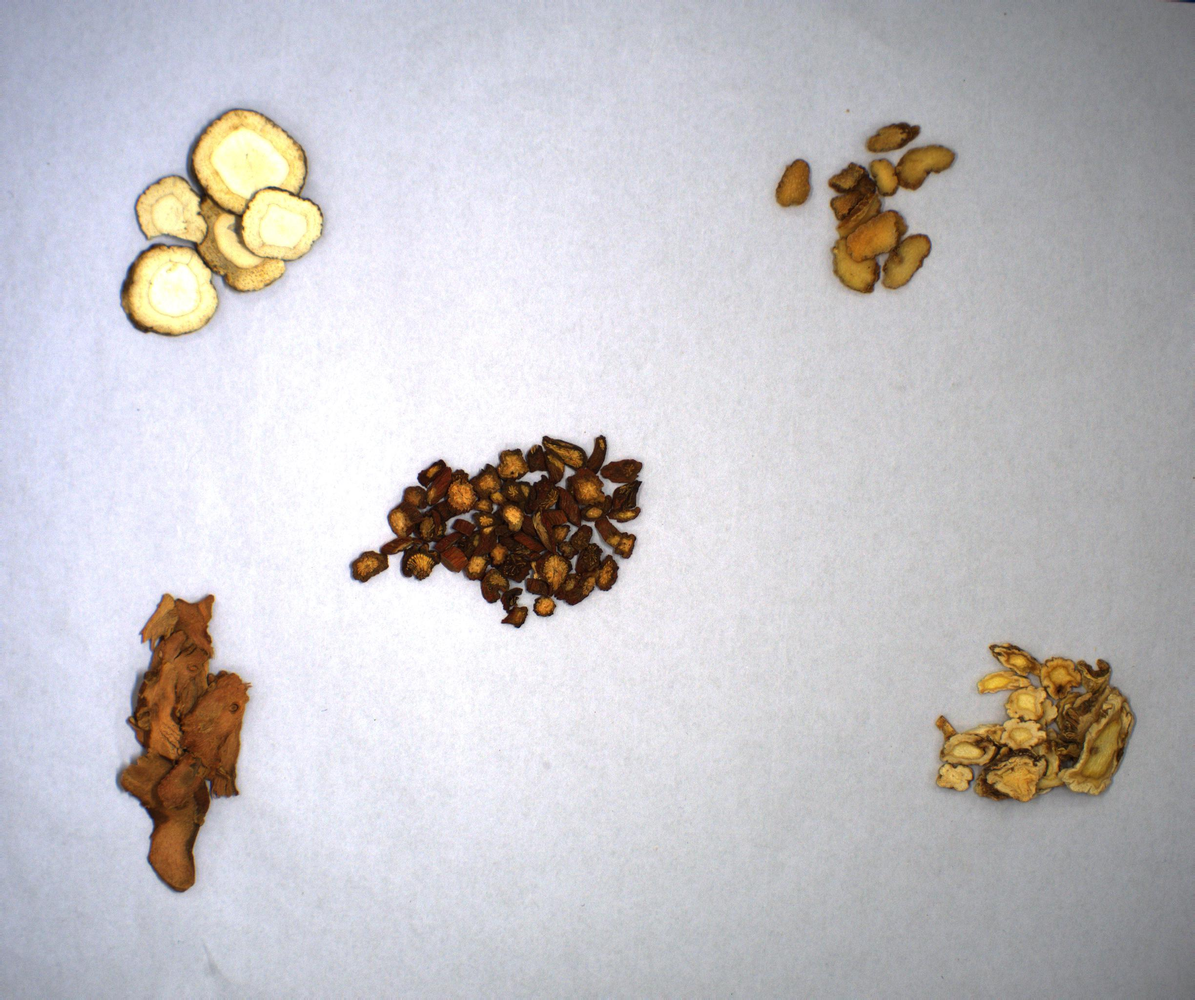baizhi: (116, 88, 369, 382)
danshen: (344, 413, 731, 666)
gaoliangjiang: (101, 575, 286, 913)
jiegeng: (890, 597, 1172, 850)
yuzhu: (743, 81, 1043, 341)
